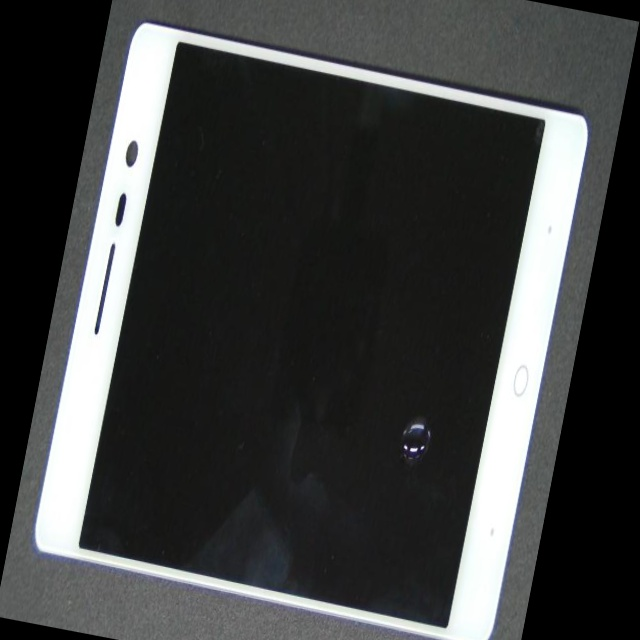oil: (213, 183, 597, 640)
